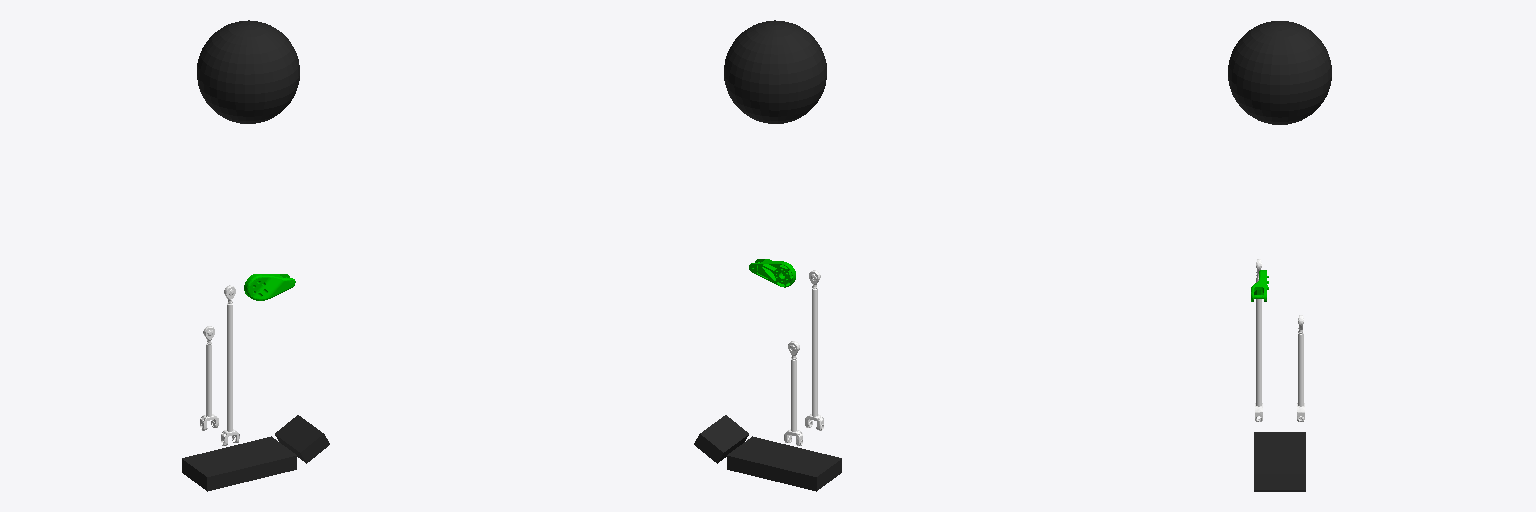
URDF robot description (DHAL):
<robot name="DHAL" xmlns:xacro="http://www.ros.org/wiki/xacro">
    <material name="black">
        <color rgba="0.0 0.0 0.0 1.0"/>
    </material>
    <material name="blue">
        <color rgba="0.0 0.0 0.8 1.0"/>
    </material>
    <material name="green">
        <color rgba="0.0 0.8 0.0 1.0"/>
    </material>
    <material name="grey">
        <color rgba="0.2 0.2 0.2 1.0"/>
    </material>
    <material name="silver">
        <color rgba="0.913725490196 0.913725490196 0.847058823529 1.0"/>
    </material>
    <material name="orange">
        <color rgba="1.0 0.423529411765 0.0392156862745 1.0"/>
    </material>
    <material name="brown">
        <color rgba="0.870588235294 0.811764705882 0.764705882353 1.0"/>
    </material>
    <material name="red">
        <color rgba="0.8 0.0 0.0 1.0"/>
    </material>
    <material name="white">
        <color rgba="1.0 1.0 1.0 1.0"/>
    </material>

    <link name="Thigh">
        <visual>
            <origin rpy="0 0 0" xyz="0 0 0"/>
            <geometry>
                <mesh filename="URDF_Thigh_with_Link_verHopping1_Simplified.dae" scale="1 1 1"/>
            </geometry>
            <material name="grey"/>
        </visual>
        <collision>
            <origin rpy="0 0 0" xyz="0 -0.04 -0.14"/>
            <geometry>
                <box size="0.1 0.02 0.26"/>
            </geometry>
        </collision>
        <collision>
            <origin rpy="0 0 0" xyz="0 0.06 -0.14"/>
            <geometry>
                <box size="0.1 0.06 0.26"/>
            </geometry>
        </collision>
        <inertial>
            <origin rpy="0 0 0" xyz="0.001815 0.027609 -0.115412"/>
            <mass value="4.157590"/>
            <inertia ixx="0.077120" ixy="-0.000030" ixz="-0.001298" iyy="0.076206" iyz="-0.012889" izz="0.014845"/>
        </inertial>
    </link>

    <joint name="00_knee_joint" type="revolute">
        <origin rpy="0 0 0" xyz="0 0 -0.2523"/>
        <parent link="Thigh"/>
        <child link="Calf"/>
        <axis xyz="0 1 0"/>
        <dynamics rotor_inertia="0.36880" damping="0" friction="0"/>
        <limit effort="600.0" velocity="9.0" lower="0" upper="2.26893"/>
    </joint>
    <link name="Calf">
        <visual>
            <origin rpy="0 0 0" xyz="0 0 0"/>
            <geometry>
                <mesh filename="URDF_Calf_verHopping1_Simplified.dae" scale="1 1 1"/>
            </geometry>
            <material name="grey"/>
        </visual>
        <collision>
            <origin rpy="0 0 0" xyz="0 0 -0.205"/>
            <geometry>
                <box size="0.1 0.048 0.32"/>
            </geometry>
        </collision>
        <inertial>
            <origin rpy="0 0 0" xyz="0.001730 0.000040 -0.146153"/>
            <mass value="3.393645"/>
            <inertia ixx="0.104136" ixy="0.000004" ixz="-0.000722" iyy="0.106810" iyz="-0.000750" izz="0.004357"/>
        </inertial>
    </link>

    <joint name="01_ankle_pitch_joint" type="revolute">
        <origin rpy="0 0 0" xyz="0 0 -0.41"/>
        <parent link="Calf"/>
        <child link="Universal"/>
        <axis xyz="0 1 0"/>
        <limit lower="-0.872665" upper="0.698132"/>
    </joint>
    <link name="Universal">
        <visual>
            <origin rpy="0 0 0" xyz="0 0 0"/>
            <geometry>
                <mesh filename="URDF_Universal_verHopping1_Simplified.dae" scale="1 1 1"/>
            </geometry>
            <material name="white"/>
        </visual>
        <inertial>
            <origin rpy="0 0 0" xyz="0 0 0"/>
            <mass value="0.209567"/>
            <inertia ixx="0.00048" ixy="0" ixz="0" iyy="0.000089" iyz="0" izz="0.000124"/>
        </inertial>
    </link>

    <joint name="02_ankle_roll_joint" type="revolute">
        <origin rpy="0 0 0" xyz="0 0 0"/>
        <parent link="Universal"/>
        <child link="Foot"/>
        <axis xyz="1 0 0"/>
        <limit lower="-0.523599" upper="0.523599"/>
    </joint>
    <link name="Foot">
<!--        <visual>-->
<!--            <origin rpy="0 0 0" xyz="0 0 0"/>-->
<!--            <geometry>-->
<!--                <mesh filename="URDF_Foot_verHopping1_Simplified.dae" scale="1 1 1"/>-->
<!--            </geometry>-->
<!--            <material name="grey"/>-->
<!--        </visual>-->
<!--        <collision>-->
<!--            <origin rpy="0 0 0" xyz="0 0 -0.065"/>-->
<!--            <geometry>-->
<!--                <box size="0.24 0.08 0.03"/>-->
<!--            </geometry>-->
<!--        </collision>-->
        <visual>
            <origin rpy="0 0 0" xyz="-0.02 0 -0.065"/>
            <geometry>
                <box size="0.20 0.1 0.03"/>
            </geometry>
            <material name="grey"/>
        </visual>
        <visual>
            <origin rpy="0 -0.5 0" xyz="0.12 0 -0.045"/>
            <geometry>
                <box size="0.06 0.1 0.03"/>
            </geometry>
            <material name="grey"/>
        </visual>
        <collision>
            <origin rpy="0 0 0" xyz="-0.02 0 -0.065"/>
            <geometry>
                <box size="0.20 0.1 0.03"/>
            </geometry>
        </collision>
        <collision>
            <origin rpy="0 -0.5 0" xyz="0.12 0 -0.045"/>
            <geometry>
                <box size="0.06 0.1 0.03"/>
            </geometry>
        </collision>
        <inertial>
            <origin rpy="0 0 0" xyz="-0.019703 -0.000021 -0.036108"/>
            <mass value="0.547532"/>
            <inertia ixx="0.001484" ixy="0.000001" ixz="-0.000019" iyy="0.003208" iyz="0" izz="0.002160"/>
        </inertial>
    </link>

    <joint name="03_left_ankle_link_pitch_joint" type="continuous">
        <origin rpy="0 0 0" xyz="-0.0640125 0.04 0.0112871"/>
        <parent link="Foot"/>
        <child link="Left_Dice"/>
        <axis xyz="0 1 0"/>
    </joint>
    <link name="Left_Dice">
        <visual>
            <origin rpy="0 0 0" xyz="0 0 0"/>
            <geometry>
                <mesh filename="URDF_Calf_Link_Dice_verHopping1_Simplified.dae" scale="1 1 1"/>
            </geometry>
            <material name="white"/>
        </visual>
        <inertial>
            <origin rpy="0 0 0" xyz="0 0 0"/>
            <mass value="0.037914"/>
            <inertia ixx="0.000002" ixy="0" ixz="0" iyy="0.000004" iyz="0" izz="0.000004"/>
        </inertial>
    </link>

    <joint name="04_left_ankle_link_roll_joint" type="continuous">
        <origin rpy="0 0 0" xyz="0 0 0"/>
        <parent link="Left_Dice"/>
        <child link="Left_Ankle_Link"/>
        <axis xyz="1 0 0"/>
    </joint>
    <link name="Left_Ankle_Link">
        <visual>
            <origin rpy="0 0 0" xyz="0 0 0"/>
            <geometry>
                <mesh filename="URDF_Calf_Link_S_verHopping1_Simplified.dae" scale="1 1 1"/>
            </geometry>
            <material name="white"/>
        </visual>
        <inertial>
            <origin rpy="0 0 0" xyz="0.000021 0 0.083422"/>
            <mass value="0.134342"/>
            <inertia ixx="0.001708" ixy="0" ixz="0" iyy="0.001714" iyz="0" izz="0.000010"/>
        </inertial>
    </link>

    <joint name="05_right_ankle_link_pitch_joint" type="continuous">
        <origin rpy="0 0 0" xyz="-0.0640125 -0.04 0.0112871"/>
        <parent link="Foot"/>
        <child link="Right_Dice"/>
        <axis xyz="0 1 0"/>
    </joint>
    <link name="Right_Dice">
        <visual>
            <origin rpy="0 0 0" xyz="0 0 0"/>
            <geometry>
                <mesh filename="URDF_Calf_Link_Dice_verHopping1_Simplified.dae" scale="1 1 1"/>
            </geometry>
            <material name="white"/>
        </visual>
        <inertial>
            <origin rpy="0 0 0" xyz="0 0 0"/>
            <mass value="0.037914"/>
            <inertia ixx="0.000002" ixy="0" ixz="0" iyy="0.000004" iyz="0" izz="0.000004"/>
        </inertial>
    </link>

    <joint name="06_right_ankle_link_roll_joint" type="continuous">
        <origin rpy="0 0 0" xyz="0 0 0"/>
        <parent link="Right_Dice"/>
        <child link="Right_Ankle_Link"/>
        <axis xyz="1 0 0"/>
    </joint>
    <link name="Right_Ankle_Link">
        <visual>
            <origin rpy="0 0 0" xyz="0 0 0"/>
            <geometry>
                <mesh filename="URDF_Calf_Link_L_verHopping1_Simplified.dae" scale="1 1 1"/>
            </geometry>
            <material name="white"/>
        </visual>
        <inertial>
            <origin rpy="0 0 0" xyz="0.000017 0 0.137377"/>
            <mass value="0.170375"/>
            <inertia ixx="0.005596" ixy="0" ixz="0" iyy="0.005602" iyz="0" izz="0.000011"/>
        </inertial>
    </link>

    <joint name="07_left_ankle_link_input_joint" type="continuous">
        <origin rpy="0 0 0" xyz="0 0.0255 -0.205"/>
        <parent link="Calf"/>
        <child link="Left_Ankle_Link_Input"/>
        <axis xyz="0 1 0"/>
        <dynamics rotor_inertia="0.0128" damping="0" friction="0"/>
        <limit effort="150.0" velocity="9.0"/>
    </joint>
    <link name="Left_Ankle_Link_Input">
        <visual>
            <origin rpy="0 0 0" xyz="0 0 0"/>
            <geometry>
                <mesh filename="URDF_Calf_Link_Input_verHopping1_Simplified.dae" scale="1 1 1"/>
            </geometry>
            <material name="green"/>
        </visual>
        <inertial>
            <origin rpy="0 0 0" xyz="0.022550 0.012714 -0.001469"/>
            <mass value="0.132288"/>
            <inertia ixx="0.000048" ixy="0.000048" ixz="0" iyy="0.000170" iyz="-0.000004" izz="0.000187"/>
        </inertial>
    </link>

    <joint name="08_right_ankle_link_input_joint" type="continuous">
        <origin rpy="0 0 0" xyz="0 -0.0255 -0.09"/>
        <parent link="Calf"/>
        <child link="Right_Ankle_Link_Input"/>
        <axis xyz="0 1 0"/>
        <dynamics rotor_inertia="0.0128" damping="0" friction="0"/>
        <limit effort="150.0" velocity="9.0"/>
    </joint>
    <link name="Right_Ankle_Link_Input">
        <visual>
            <origin rpy="0 0 0" xyz="0 0 0"/>
            <geometry>
                <mesh filename="URDF_Calf_Link_Input_mir_verHopping1_Simplified.dae" scale="1 1 1"/>
            </geometry>
            <material name="green"/>
        </visual>
        <inertial>
            <origin rpy="0 0 0" xyz="0.022550 -0.012714 -0.001469"/>
            <mass value="0.132288"/>
            <inertia ixx="0.000048" ixy="-0.000048" ixz="0" iyy="0.000170" iyz="0.000004" izz="0.000187"/>
        </inertial>
    </link>

    <joint name="09_temp_weight_joint" type="fixed">
        <origin rpy="0 0 0" xyz="0 0 0.1"/>
        <parent link="Thigh"/>
        <child link="Temp_Weight"/>
    </joint>
    <link name="Temp_Weight">
        <visual>
            <origin rpy="0 0 0" xyz="0 0 0"/>
            <geometry>
                <sphere radius="0.1"/>
            </geometry>
            <material name="grey"/>
        </visual>
        <collision>
            <origin rpy="0 0 0" xyz="0 0 0"/>
            <geometry>
                <sphere radius="0.1"/>
            </geometry>
        </collision>
        <inertial>
            <origin rpy="0 0 0" xyz="0 0 0"/>
            <mass value="5.0"/>
            <inertia ixx="0.02" ixy="0" ixz="0" iyy="0.02" iyz="0" izz="0.02"/>
        </inertial>
    </link>

    <constraints nominal_config="0.0, 0.0, 0.8, 0.99619470, 0.0, -0.08715574, 0.0,  0.349066, -0.174533, 0.0,  0.786794, 0.00244346, 0.574911, 0.00157080,  0.722043, 0.462338">
        <pin body1="Left_Ankle_Link_Input" body2="Left_Ankle_Link" anchor="0.065 0.015 0.0"/>
        <pin body1="Right_Ankle_Link_Input" body2="Right_Ankle_Link" anchor="0.065 -0.015 0.0"/>
    </constraints>

</robot>

--- Facts derived from the render (not from the file) ---
The picture shows the robot from 3 angles, left to right: view 1: azimuth 30°, elevation 25°; view 2: azimuth 150°, elevation 25°; view 3: azimuth 270°, elevation 25°; orthographic projection.
Robot: DHAL — 11 links, 10 joints (3 revolute, 6 continuous, 1 fixed); root link Thigh; default pose: every joint at zero.
Links seen in each view (by area): view 1: Temp_Weight, Foot, Right_Ankle_Link, Right_Ankle_Link_Input, Left_Ankle_Link; view 2: Temp_Weight, Foot, Right_Ankle_Link, Right_Ankle_Link_Input, Left_Ankle_Link; view 3: Temp_Weight, Foot, Right_Ankle_Link, Left_Ankle_Link.
Link boxes in pixels (x1=…): Temp_Weight: x1=197, y1=20, x2=299, y2=123; Foot: x1=182, y1=415, x2=329, y2=491; Right_Ankle_Link: x1=221, y1=285, x2=239, y2=445; Right_Ankle_Link_Input: x1=244, y1=274, x2=295, y2=300; Left_Ankle_Link: x1=200, y1=326, x2=218, y2=430; Temp_Weight: x1=724, y1=20, x2=826, y2=123; Foot: x1=694, y1=415, x2=841, y2=491; Right_Ankle_Link: x1=805, y1=270, x2=823, y2=430; Right_Ankle_Link_Input: x1=749, y1=259, x2=795, y2=287; Left_Ankle_Link: x1=784, y1=341, x2=802, y2=445; Temp_Weight: x1=1228, y1=21, x2=1331, y2=124; Foot: x1=1254, y1=432, x2=1305, y2=491; Right_Ankle_Link: x1=1255, y1=259, x2=1262, y2=421; Left_Ankle_Link: x1=1297, y1=315, x2=1304, y2=421.
Size in the robot's own frame: 0.2735 by 0.2 by 0.9423 metres.
3 mesh visuals loaded from 8 distinct referenced files (3 Collada DAE); not drawn: 6 (reference not matched to a file when rendering).
